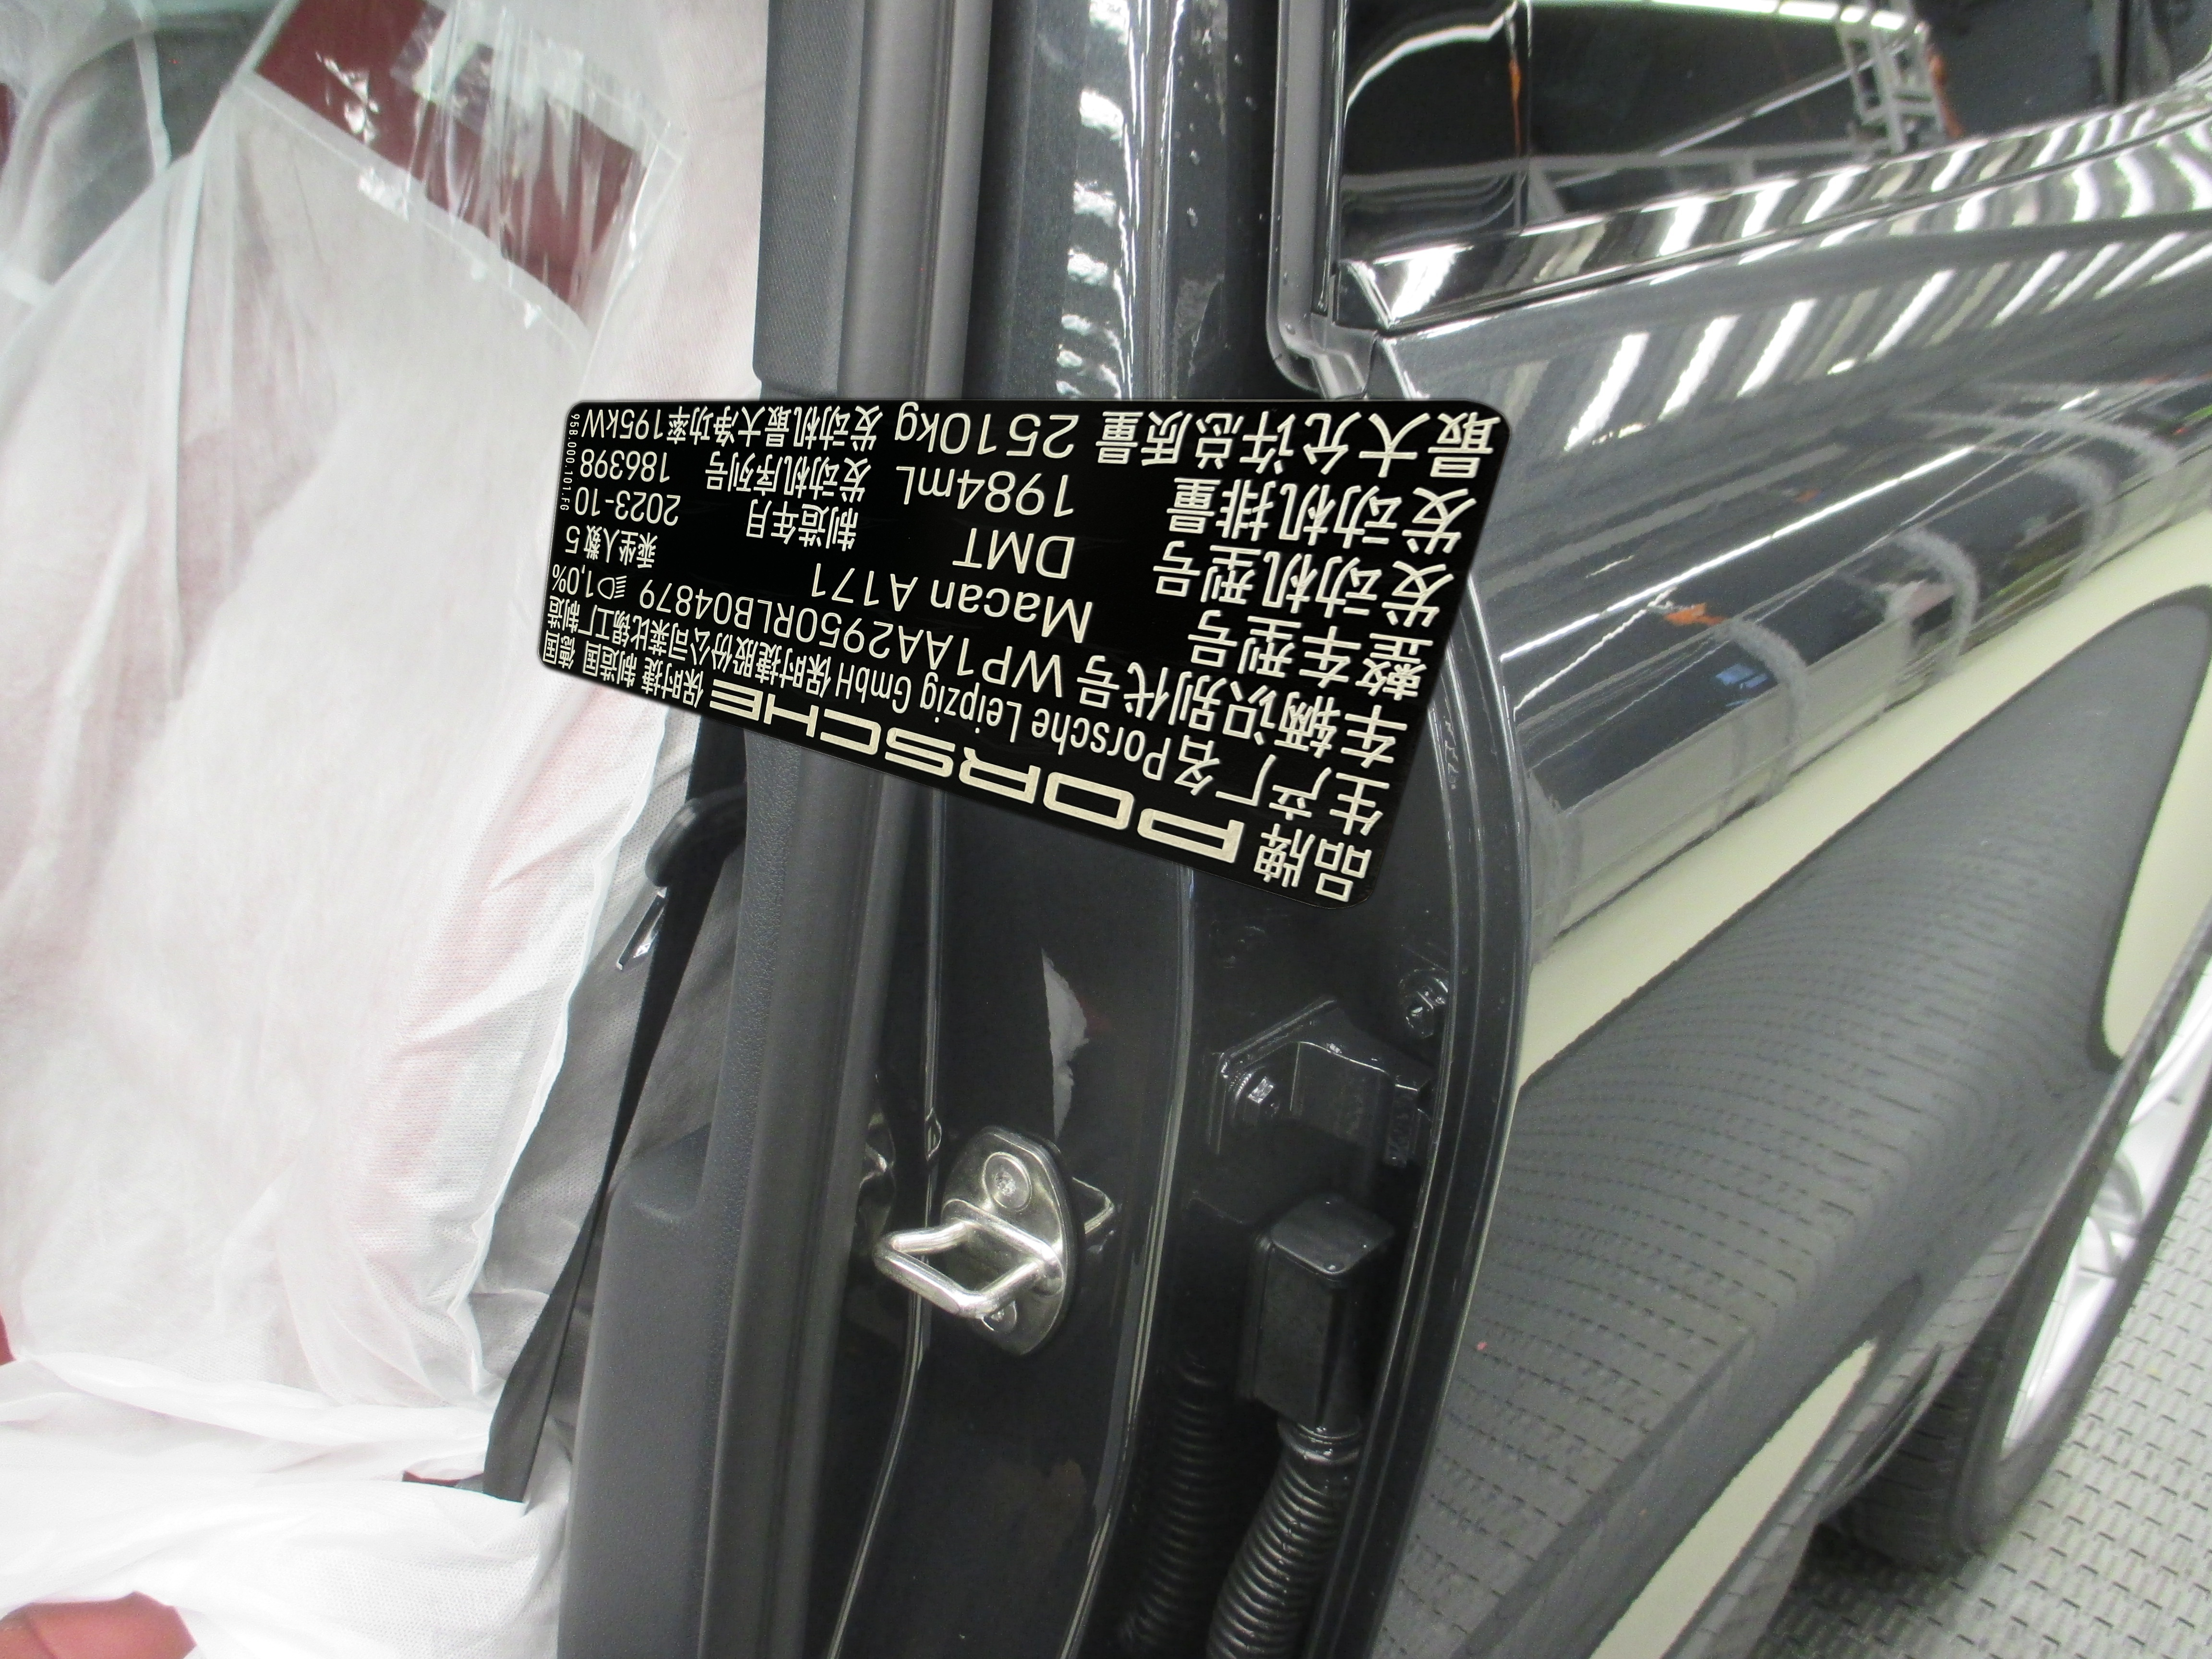Typlabel-China: (538, 399, 1510, 908)
